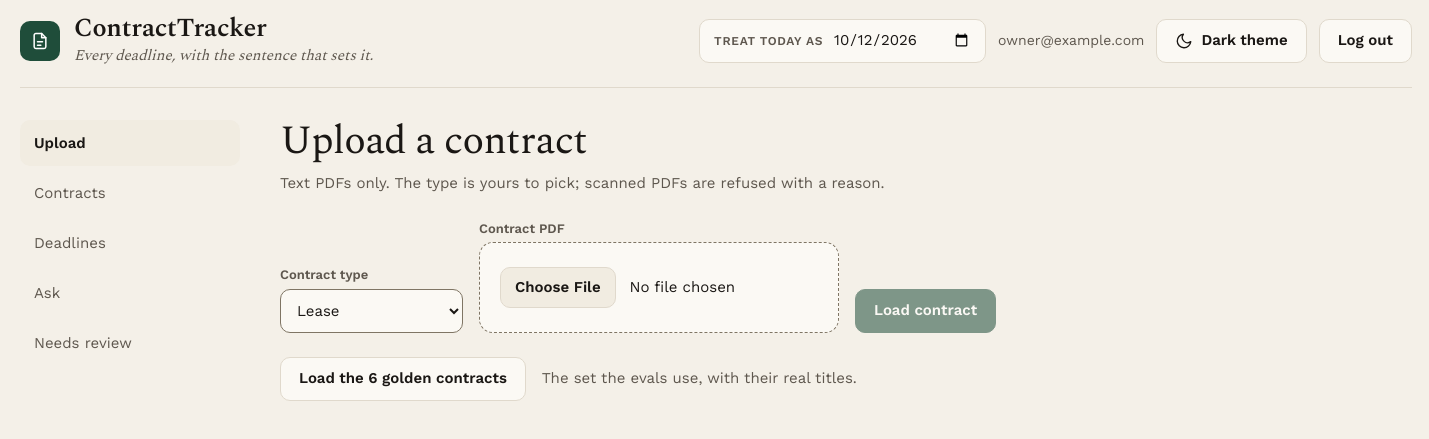
Test: the page › TC-0124: an empty review queue says so
Expected: the tab "Upload" is shown, [20,120,240,166]
Click the tab "Needs review".
click(130, 343)  # box [20,320,240,366]
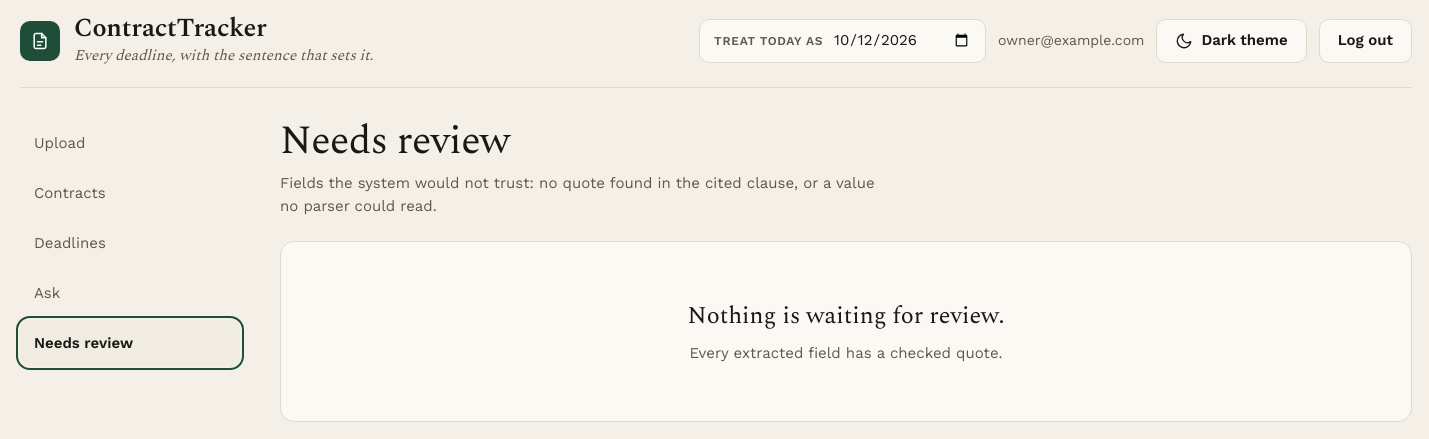
Expected: the text "Nothing is waiting for review." is shown, [688,298,1004,334]
